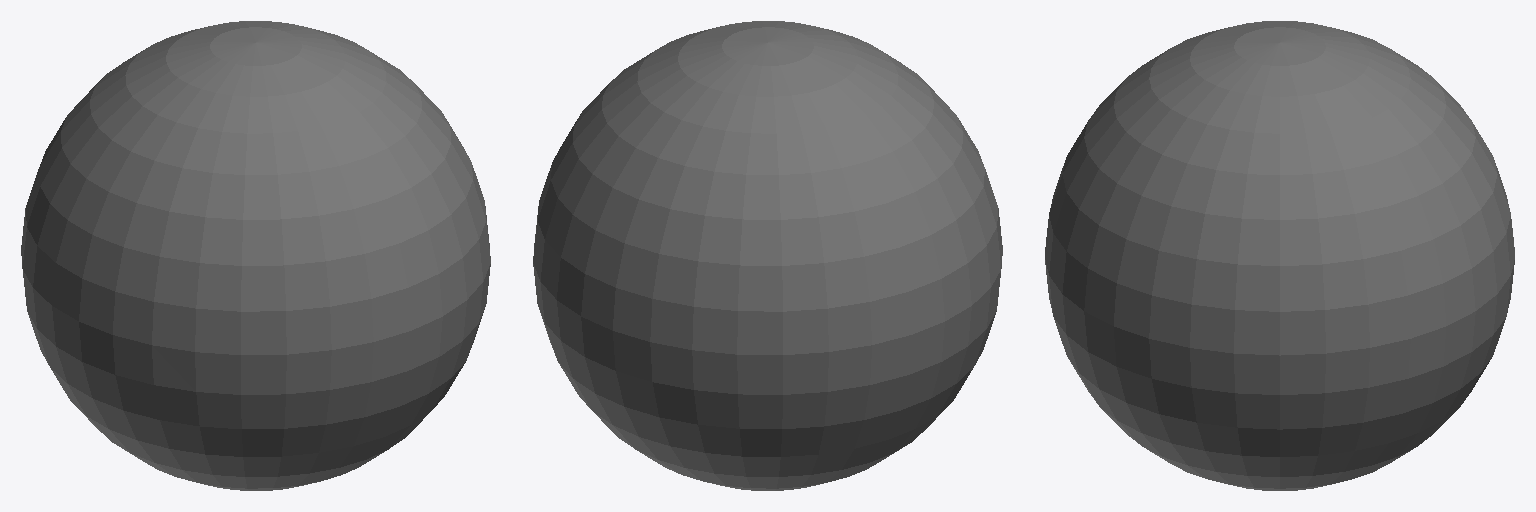
The model's file is Sattelite.obj.
3 renders of one model, left to right at view 1: azimuth 30°, elevation 25°; view 2: azimuth 150°, elevation 25°; view 3: azimuth 270°, elevation 25°, orthographic.
Parts seen in each view (by area): view 1: Sphere001; view 2: Sphere001; view 3: Sphere001.
Part boxes in pixels (x1,y1,x2,y2): Sphere001: (21, 21, 490, 490); Sphere001: (533, 21, 1002, 490); Sphere001: (1045, 21, 1514, 490).
Bounding box in the file's own units: 4 × 4 × 4.